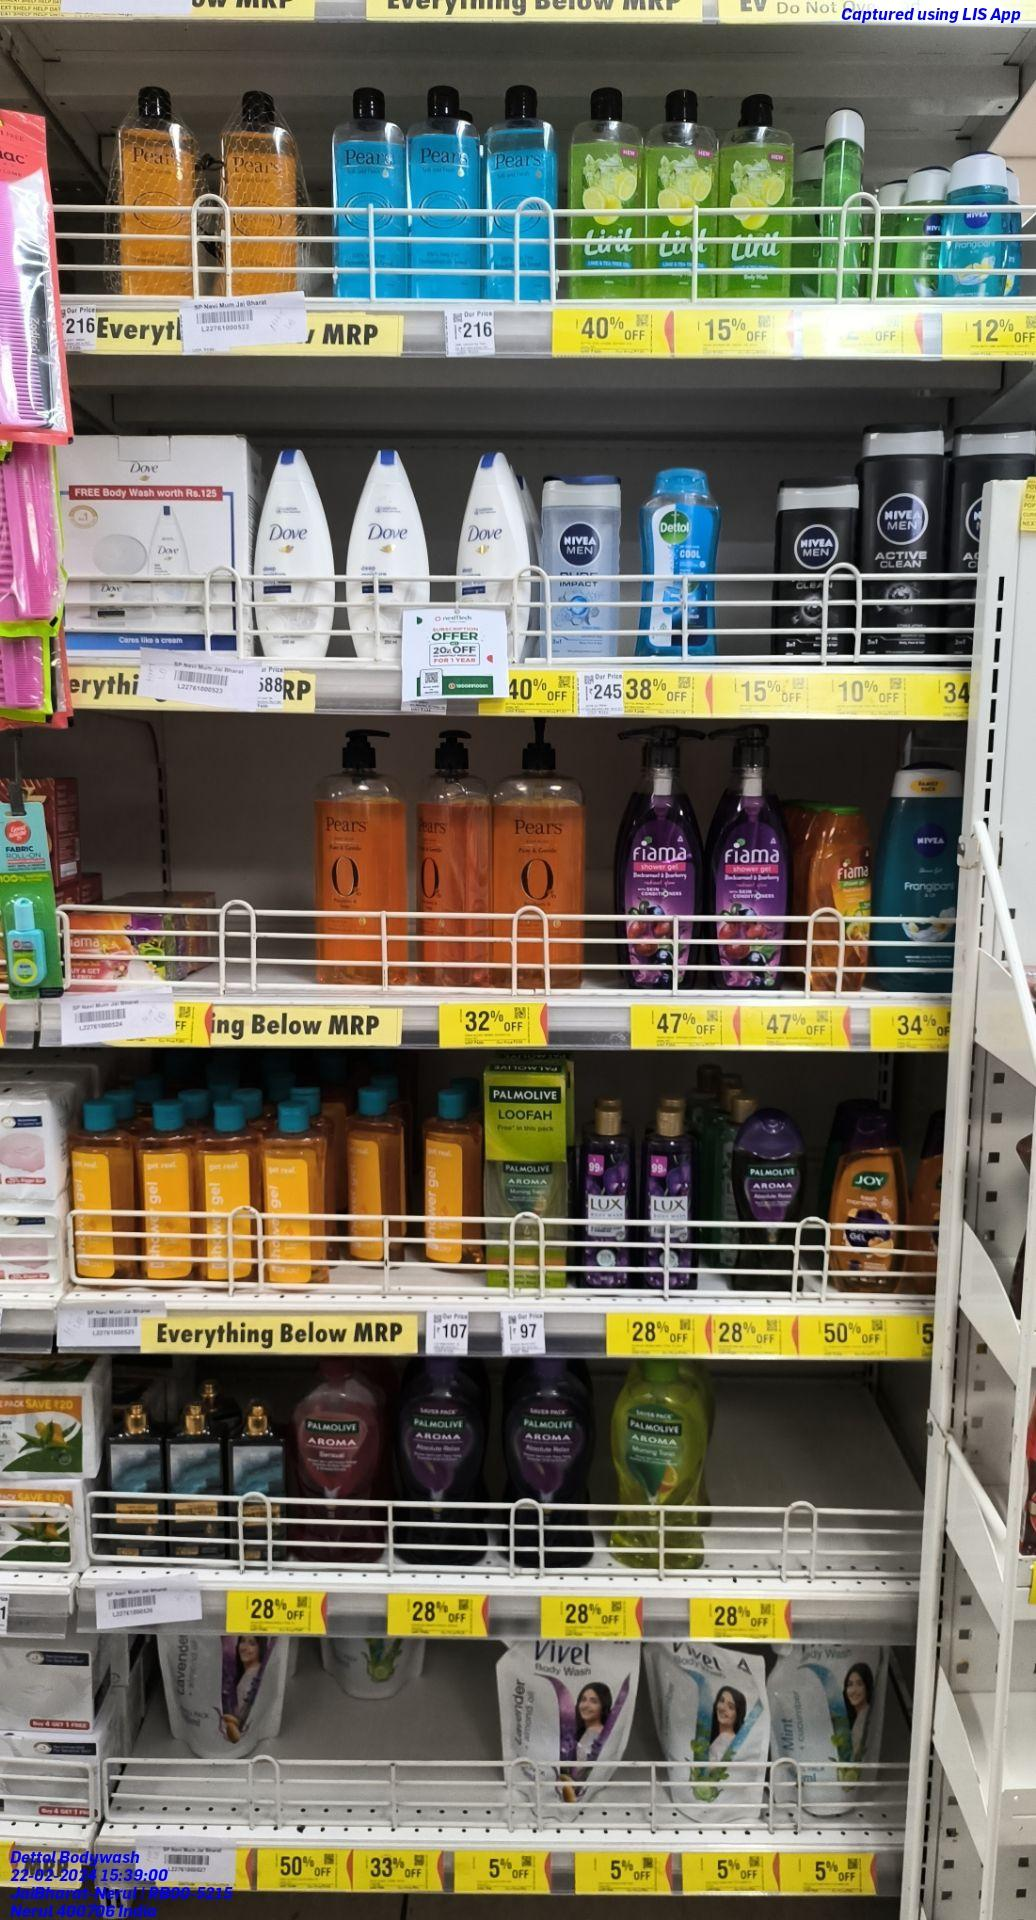Dettol_Bodywash_Cool: (640, 461, 721, 662)
Dove_Deep_Moisture_Body_Wash_250ML: (255, 443, 336, 660), (351, 450, 434, 607), (457, 450, 531, 605)
Fiama_Shower_Gel_Peach_and_Avocado_250ML: (818, 809, 875, 995)
Joy_Shower_Gel_Mandarin_and_Lemongrass_250ML: (824, 1109, 902, 1291)
Lux_Black_Orchid_Scent_and_Juniper_Oil_Body_Wash_245ML: (577, 1107, 639, 1285), (643, 1110, 698, 1287)
Nivea_Shower_Gel_Frangipani_and_Oil_250ML: (883, 763, 967, 990), (944, 152, 1008, 307)
Palmolive_Aroma_Relax_250ML: (727, 1121, 813, 1289)
